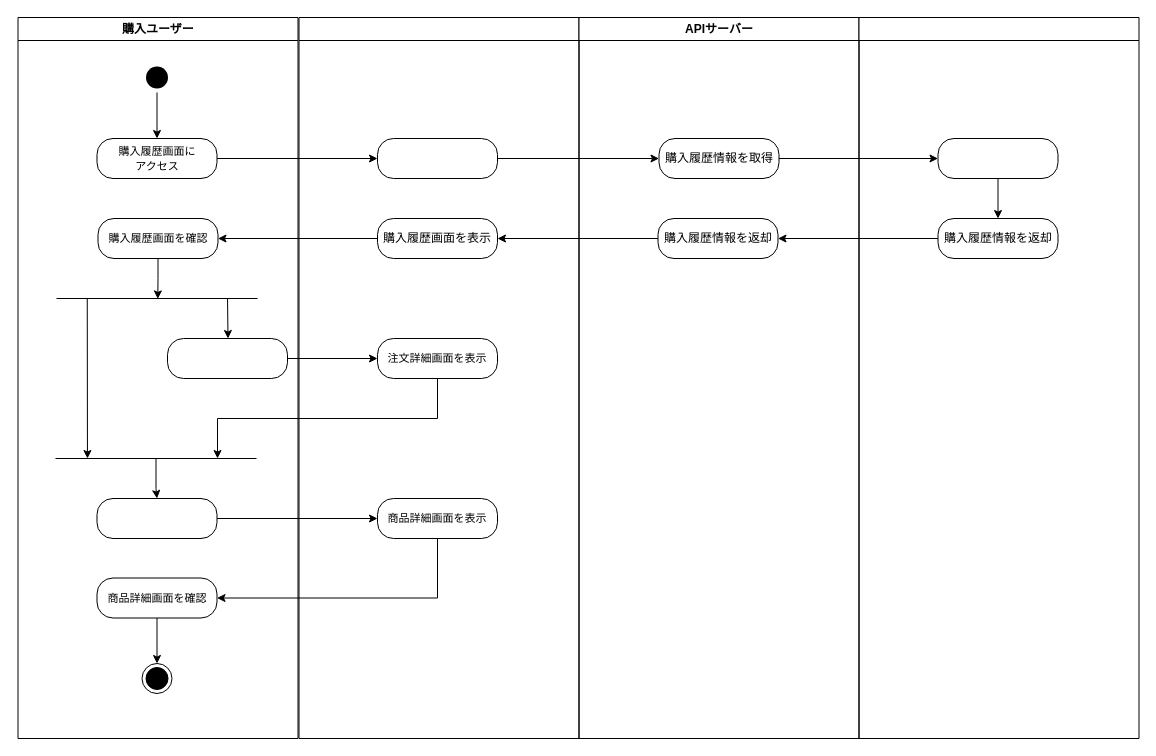
Some shapes in this 1156 by 756 pixel diagram are drawn without their labels. Each missing label, with the box of its shape:
ECサイト画面: (298, 16, 579, 738)
データベース: (858, 16, 1139, 738)
商品の画像リンクを 押下: (96, 498, 217, 538)
注文詳細ボタンを押下: (166, 338, 288, 378)
購入履歴情報を取得 するAPIをリクエスト: (376, 138, 498, 178)
購入履歴情報を検索: (937, 138, 1058, 178)
